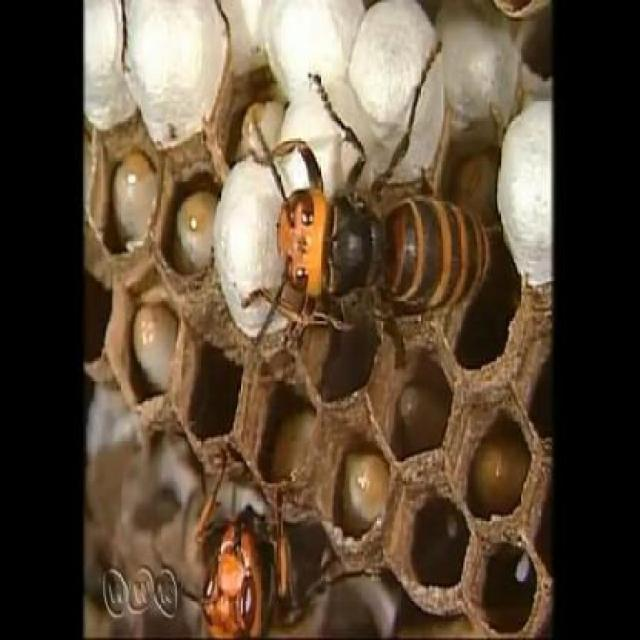Wasp: (247, 50, 497, 349), (163, 434, 377, 640)
